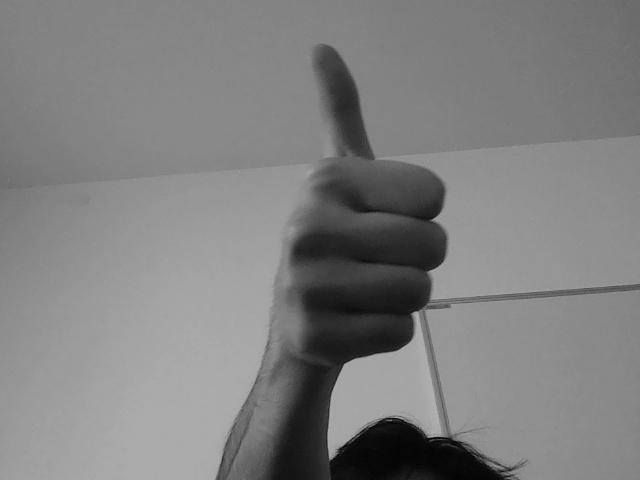friend: (265, 26, 454, 378)
